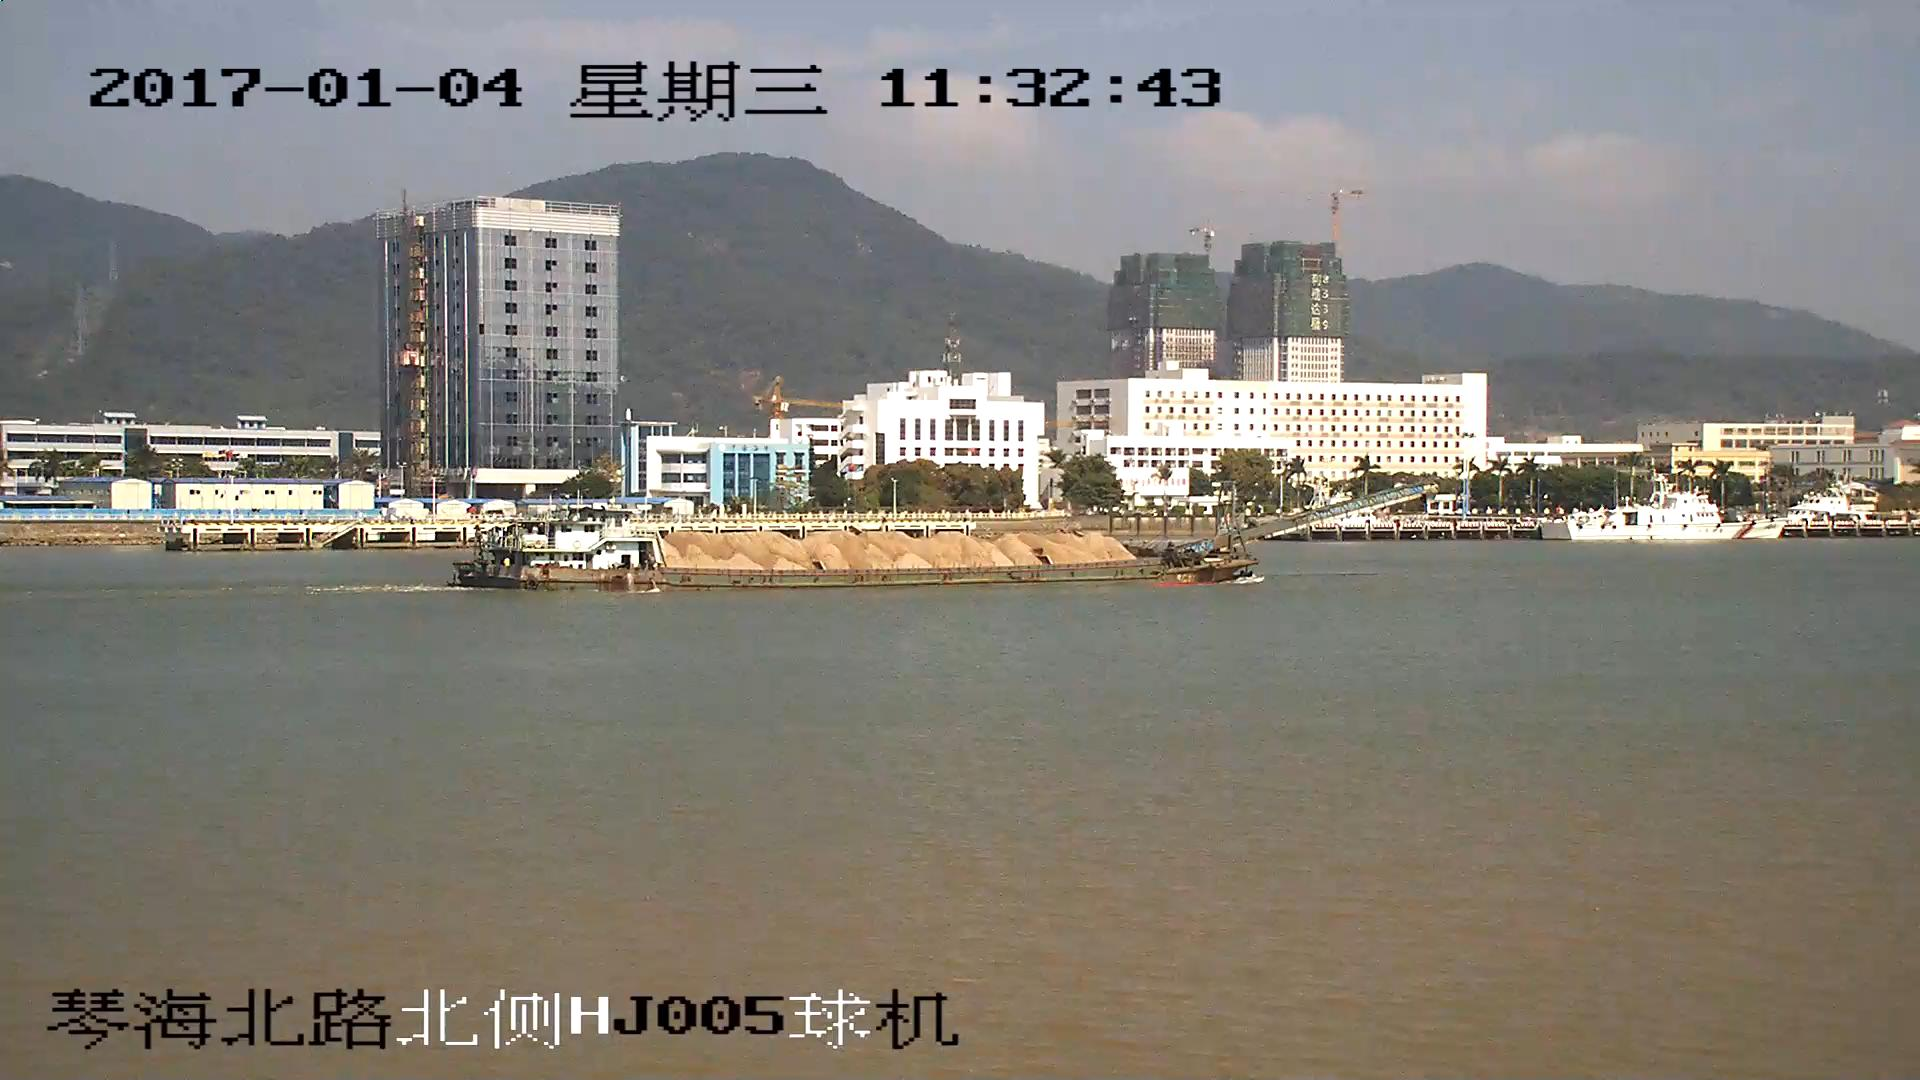ore carrier: (452, 481, 1434, 592)
